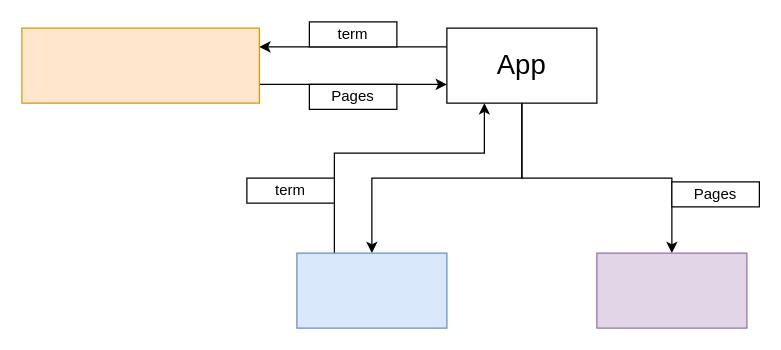
This 781x350 diagram has some shape labels left out. Each missing label, with the box of its shape:
PageList: (596, 252, 747, 328)
SearchBar: (296, 252, 447, 328)
WikipediaService: (21, 27, 259, 103)
